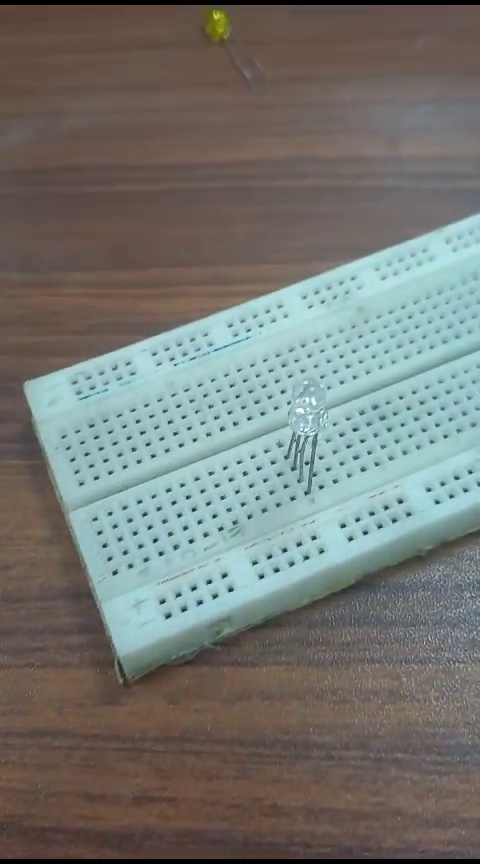LED: (280, 373, 331, 481)
